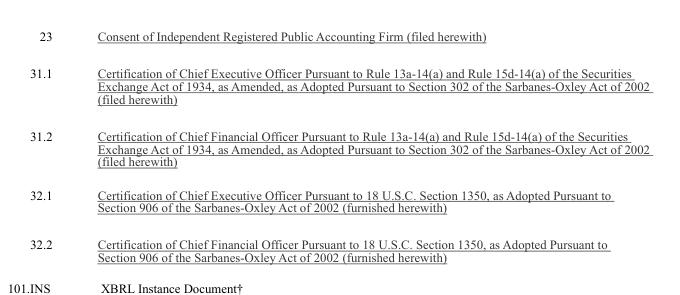table: (29, 28, 648, 263)
table column: (74, 28, 648, 263), (29, 28, 74, 263)
table row: (29, 54, 648, 117), (29, 117, 648, 177), (29, 177, 648, 225), (29, 225, 648, 263), (29, 28, 648, 54)
